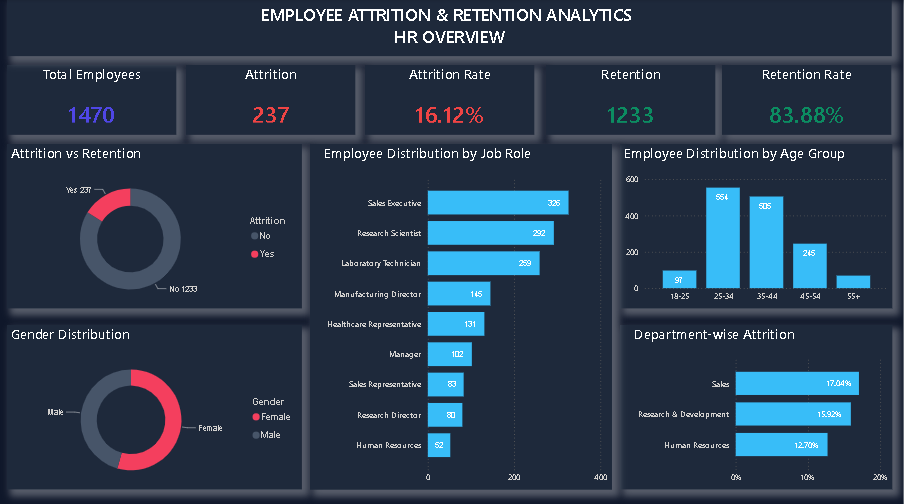

This screenshot's page, from the dashboard's own definition file:
{"tool":"powerbi","page":{"name":"HR Overview","canvas":[1280,720],"ordinal":0},"visuals":[{"type":"cardVisual","title":"Total Employees","fields":{"Data":["Count(HR_Analytics_Final.EmployeeNumber)"]},"box":[11.3,93.5,240.5,99.4],"z":0},{"type":"textbox","box":[11.5,0,1254.2,80.6],"z":1000},{"type":"cardVisual","title":"Attrition ","fields":{"Data":["HR_Analytics_Final.Employees Left"]},"box":[265,93.6,240.5,99.4],"z":2000},{"type":"cardVisual","title":"Attrition Rate","fields":{"Data":["HR_Analytics_Final.Attrition rate"]},"box":[518.4,93.6,240.5,99.4],"z":3000},{"type":"cardVisual","title":"Retention","fields":{"Data":["HR_Analytics_Final.Active employees"]},"box":[774.7,93.6,240.5,99.4],"z":4000},{"type":"donutChart","title":"Attrition vs Retention","fields":{"Y":["CountNonNull(HR_Analytics_Final.EmployeeNumber)"],"Category":["HR_Analytics_Final.Attrition"]},"box":[11.5,205.9,417.6,233.3],"z":6000},{"type":"cardVisual","title":"Retention Rate","fields":{"Data":["HR_Analytics_Final.Retention Rate"]},"box":[1025.3,93.6,240.5,99.4],"z":6500},{"type":"barChart","title":"Department-wise Attrition","fields":{"Category":["HR_Analytics_Final.Department"],"Y":["HR_Analytics_Final.Attrition rate"]},"box":[879.8,462.2,386,233],"z":7000},{"type":"donutChart","title":"Gender Distribution","fields":{"Category":["HR_Analytics_Final.Gender"],"Y":["HR_Analytics_Final.Attrition rate"]},"box":[11.5,462.2,417.6,233],"z":8000},{"type":"clusteredColumnChart","title":"Employee Distribution by Age Group","fields":{"Y":["Count(HR_Analytics_Final.EmployeeNumber)"],"Category":["HR_Analytics_Final.AgeGroup"]},"box":[879.8,205.9,385.9,233.3],"z":9000},{"type":"clusteredBarChart","title":"Employee Distribution by Job Role","fields":{"Category":["HR_Analytics_Final.JobRole"],"Y":["Count(HR_Analytics_Final.EmployeeNumber)"]},"box":[440.6,205.9,427.7,489.6],"z":10000}]}

Visuals, with their boxes in screenshot pixels (x1, y1, x2, y2), scaled from the page's 1280x720 canvas onto the 904x504 screenshot:
"Total Employees" cardVisual: crop(8, 65, 178, 135)
textbox: crop(8, 0, 894, 56)
"Attrition " cardVisual: crop(187, 66, 357, 135)
"Attrition Rate" cardVisual: crop(366, 66, 536, 135)
"Retention" cardVisual: crop(547, 66, 717, 135)
"Attrition vs Retention" donutChart: crop(8, 144, 303, 307)
"Retention Rate" cardVisual: crop(724, 66, 894, 135)
"Department-wise Attrition" barChart: crop(621, 324, 894, 487)
"Gender Distribution" donutChart: crop(8, 324, 303, 487)
"Employee Distribution by Age Group" clusteredColumnChart: crop(621, 144, 894, 307)
"Employee Distribution by Job Role" clusteredBarChart: crop(311, 144, 613, 487)
